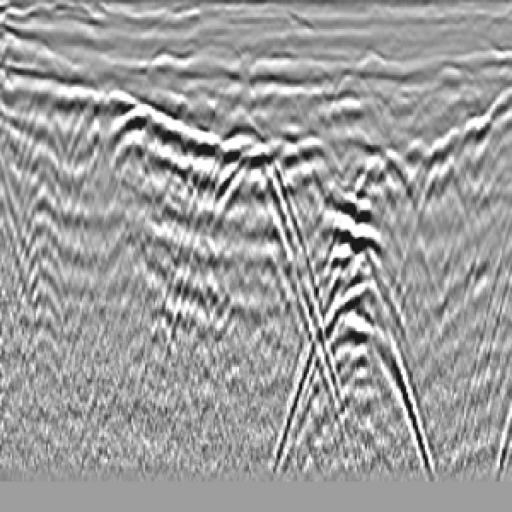metalic: (183, 113, 328, 346)
